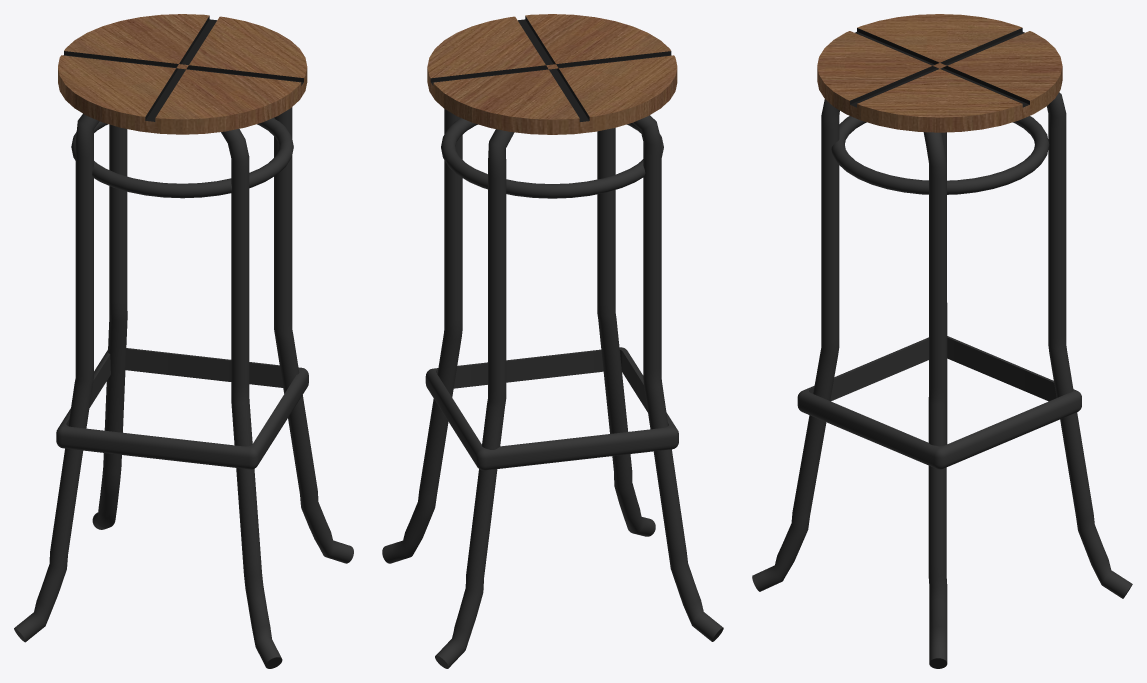
3 renders of one model, left to right at view 1: azimuth 30°, elevation 25°; view 2: azimuth 150°, elevation 25°; view 3: azimuth 270°, elevation 25°, orthographic.
Parts seen in each view (by area): view 1: Cylinder, Cylinder_1_3, Cylinder_1_4, Cylinder_1, Cylinder_1_2, Cube_1, Torus, Cube, Cube_2; view 2: Cylinder, Cylinder_1_2, Cylinder_1_4, Cylinder_1, Cylinder_1_3, Cube_1, Torus, Cube, Cube_2; view 3: Cylinder, Cylinder_1, Cylinder_1_2, Cylinder_1_3, Cube_1, Cube, Torus, Cube_2.
Boxes of the visible parts, box(x1,y1,x2,y2) form: Cylinder: box(58, 14, 307, 134); Cylinder_1_3: box(221, 129, 282, 668); Cylinder_1_4: box(14, 113, 99, 642); Cylinder_1: box(274, 107, 353, 563); Cylinder_1_2: box(92, 62, 139, 529); Cube_1: box(56, 348, 308, 469); Torus: box(71, 118, 293, 198); Cube: box(66, 349, 283, 425); Cube_2: box(63, 16, 303, 121); Cylinder: box(427, 14, 677, 134); Cylinder_1_2: box(435, 129, 514, 668); Cylinder_1_4: box(632, 115, 723, 641); Cylinder_1: box(382, 109, 462, 563); Cylinder_1_3: box(597, 128, 655, 536); Cube_1: box(425, 347, 678, 470); Torus: box(441, 118, 663, 198); Cube: box(436, 350, 668, 425); Cube_2: box(430, 16, 671, 121); Cylinder: box(817, 14, 1062, 132); Cylinder_1: box(923, 132, 947, 668); Cylinder_1_2: box(1046, 92, 1132, 598); Cylinder_1_3: box(752, 99, 839, 591); Cube_1: box(797, 336, 1081, 469); Cube: box(809, 337, 1056, 401); Torus: box(831, 116, 1049, 194); Cube_2: box(850, 28, 1029, 107).
Size of what is drawn, in the model's own units: 198 by 302 by 198.
Materials: 3 (1 with a texture image).
